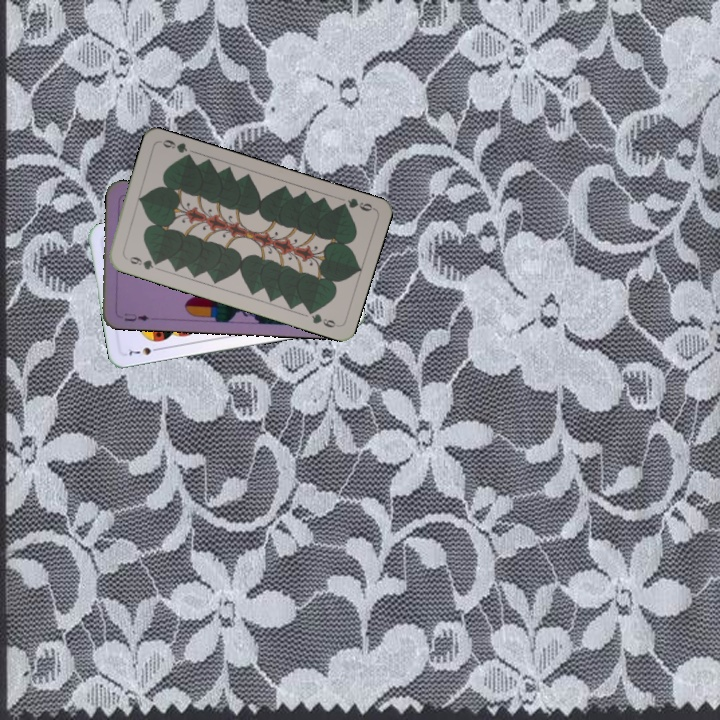EU: (120, 309, 152, 324)
G9: (335, 194, 377, 214), (121, 252, 162, 272)
S7: (125, 343, 163, 358)
